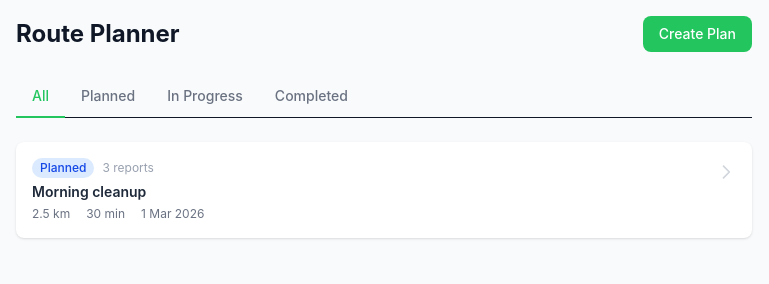
Test: PlannerList › shows empty state for filtered tab with no matches
Expected: the text "Morning cleanup" is shown, x1=32 y1=183 x2=146 y2=200
Click the button "Completed": {"x": 311, "y": 97} x1=259 y1=76 x2=364 y2=118
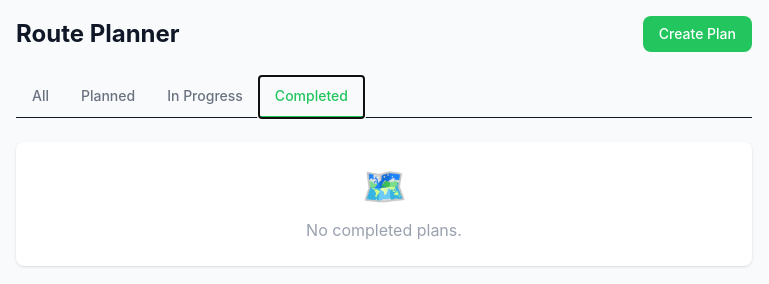
Now the text "No completed plans." is shown, box x1=306 y1=220 x2=462 y2=240
